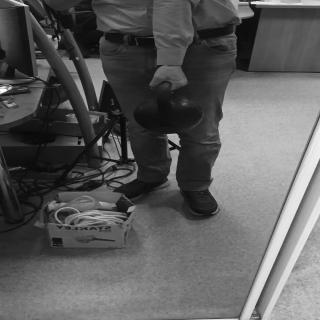girya: (136, 77, 203, 134)
